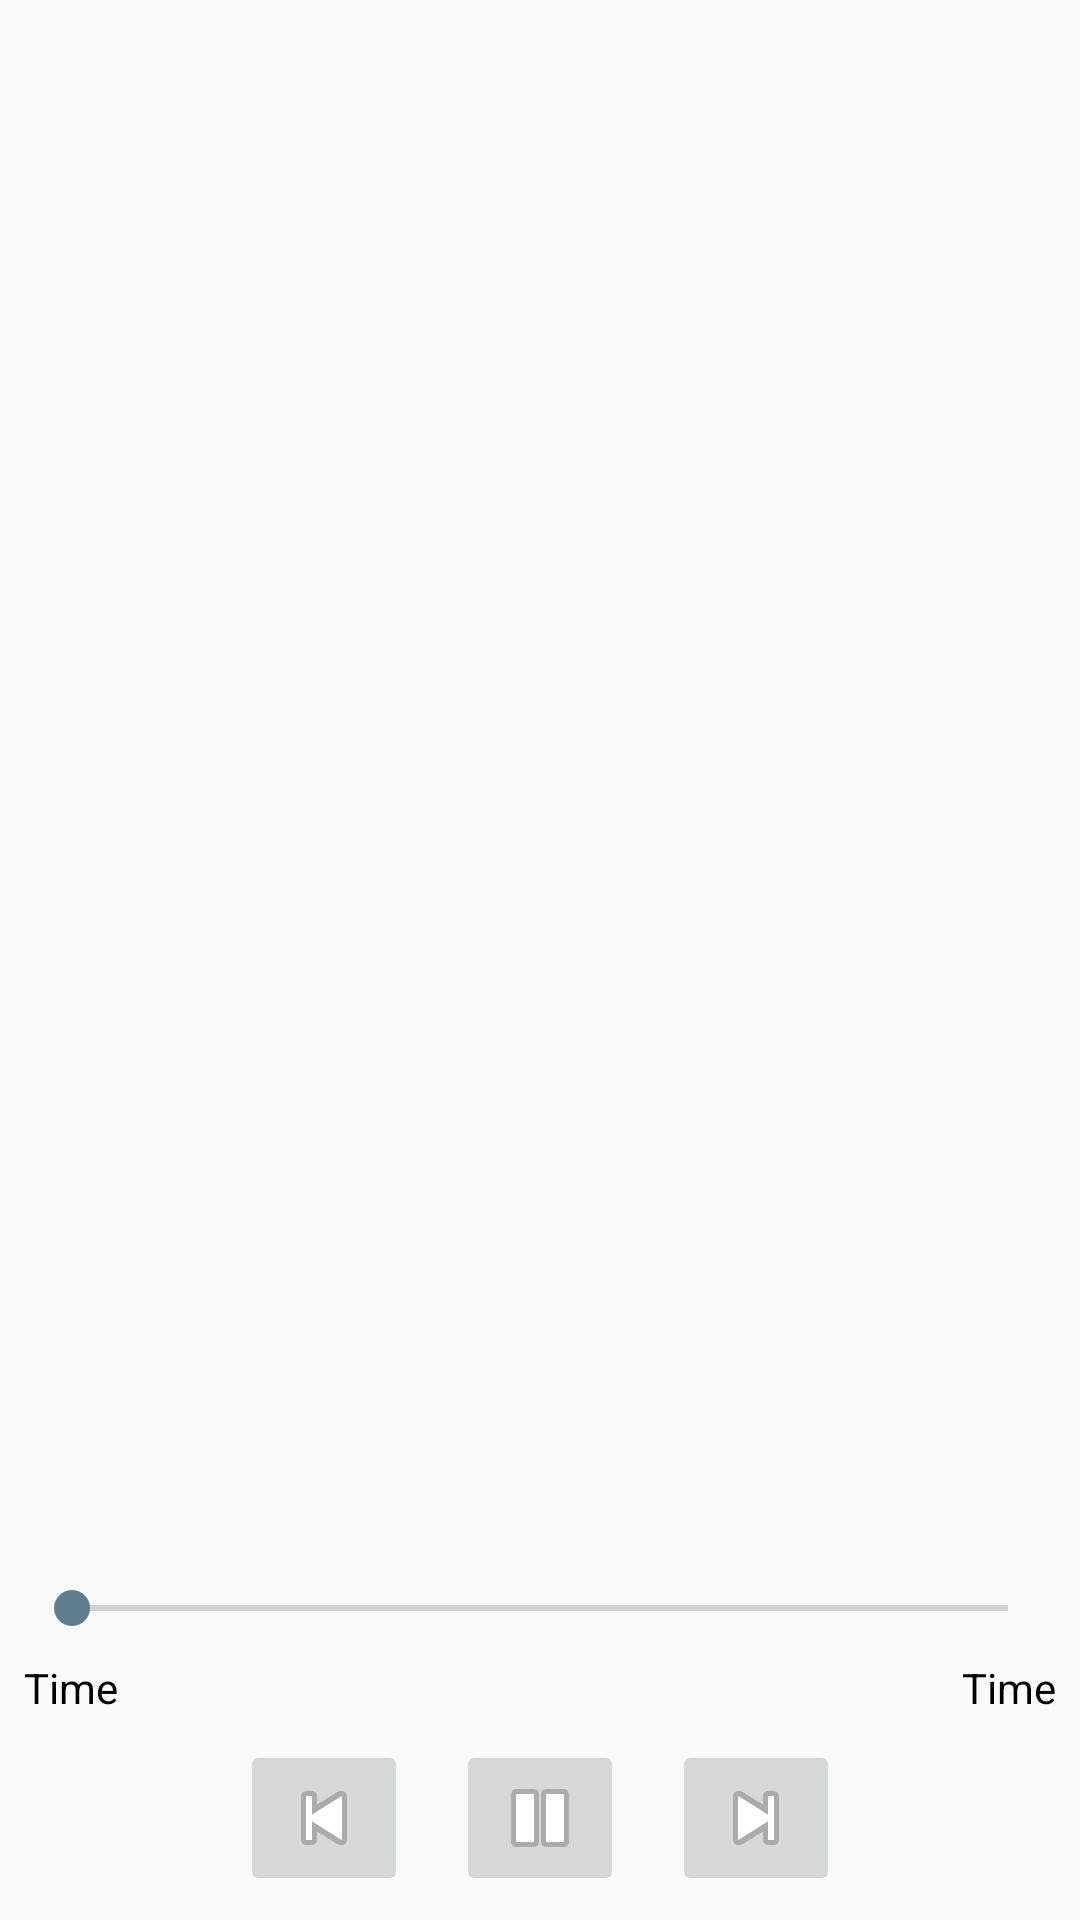

Point at icon controls on the screen. Image size 1080 × 1920, points as point (x, y).
next: point (756, 1818)
pause: point (540, 1818)
previous: point (324, 1818)
